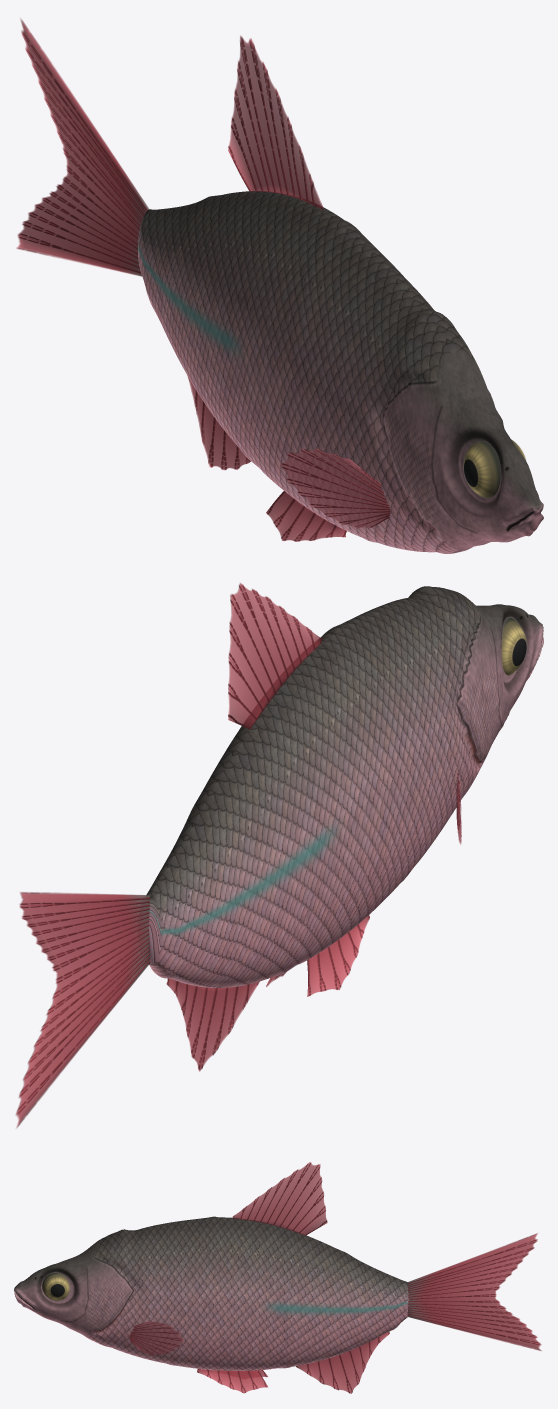
File: rozanka.glb
3 views of the same model, one above another, from view 1: azimuth 30°, elevation 25°; view 2: azimuth 150°, elevation 25°; view 3: azimuth 270°, elevation 25° (orthographic). The views are drawn at different scales.
Visible parts, largest first — view 1: Body, FinCaudal, FinDorsal1, FinPectoral, FinPelvic, FinAnal, EyeLeft; view 2: Body, FinCaudal, FinDorsal1, FinAnal, FinPelvic, EyeLeft; view 3: Body, FinCaudal, FinDorsal1, FinAnal, FinPectoral, FinPelvic, EyeRight.
Part boxes in pixels (x1=…): Body: x1=138, y1=191, x2=543, y2=553; FinCaudal: x1=16, y1=19, x2=149, y2=276; FinDorsal1: x1=228, y1=35, x2=322, y2=209; FinPectoral: x1=279, y1=448, x2=390, y2=527; FinPelvic: x1=266, y1=491, x2=346, y2=541; FinAnal: x1=187, y1=376, x2=250, y2=470; EyeLeft: x1=463, y1=441, x2=500, y2=497; Body: x1=146, y1=586, x2=543, y2=987; FinCaudal: x1=15, y1=892, x2=149, y2=1127; FinDorsal1: x1=228, y1=583, x2=322, y2=729; FinAnal: x1=166, y1=978, x2=259, y2=1071; FinPelvic: x1=266, y1=915, x2=369, y2=996; EyeLeft: x1=501, y1=618, x2=526, y2=675; Body: x1=14, y1=1216, x2=408, y2=1370; FinCaudal: x1=407, y1=1233, x2=541, y2=1350; FinDorsal1: x1=232, y1=1162, x2=327, y2=1235; FinAnal: x1=296, y1=1331, x2=389, y2=1393; FinPectoral: x1=129, y1=1321, x2=183, y2=1355; FinPelvic: x1=197, y1=1369, x2=267, y2=1393; EyeRight: x1=42, y1=1273, x2=69, y2=1300.
Size of the model in its own units: 0.2017 by 0.4859 by 1.
8 materials, 7 textured.
